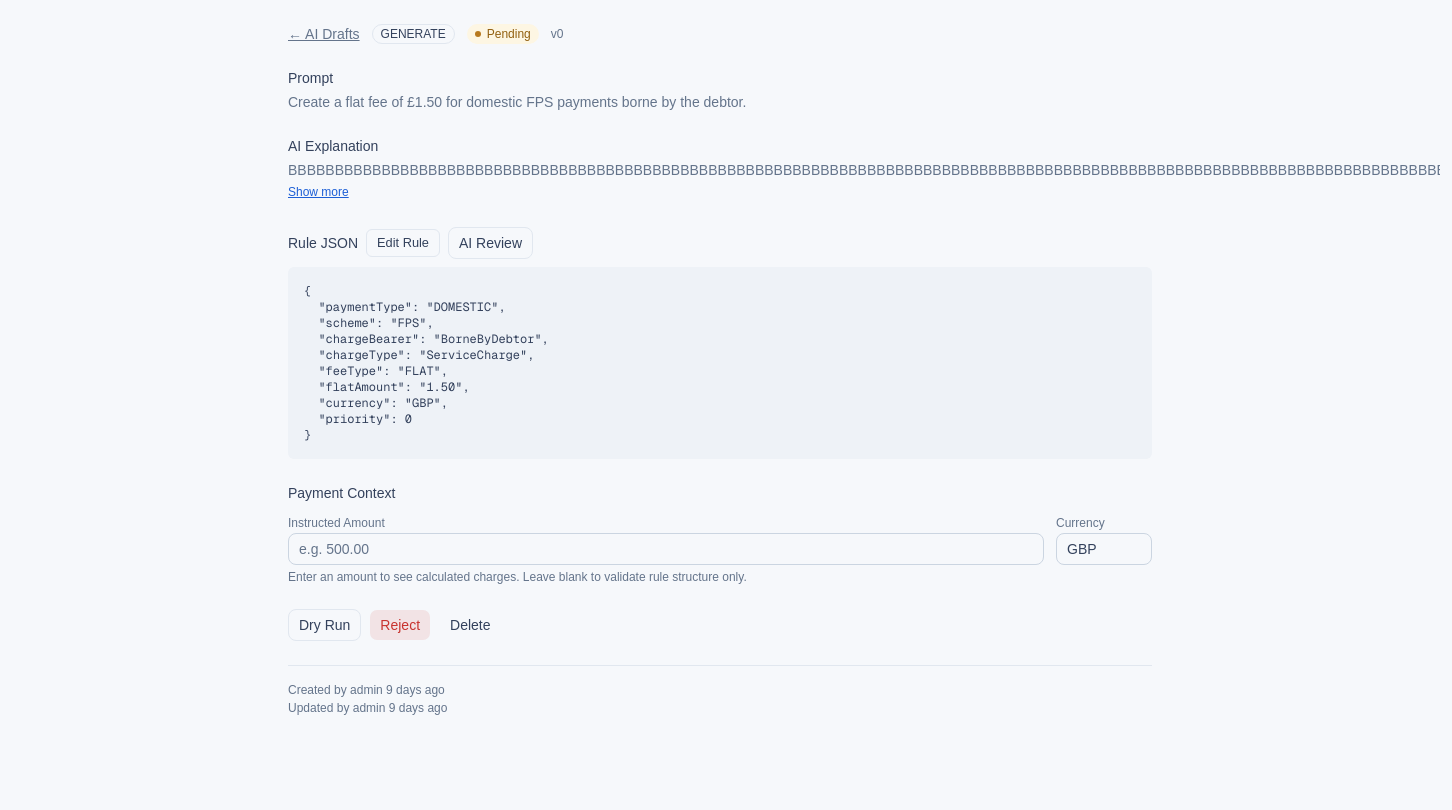
Scenario: DraftDetailPage — layout › expands full explanation when "Show more" is clicked
The width and height of the screenshot is (1452, 810).
Click the button "Show more" at (318, 192), box [288,184,349,200]
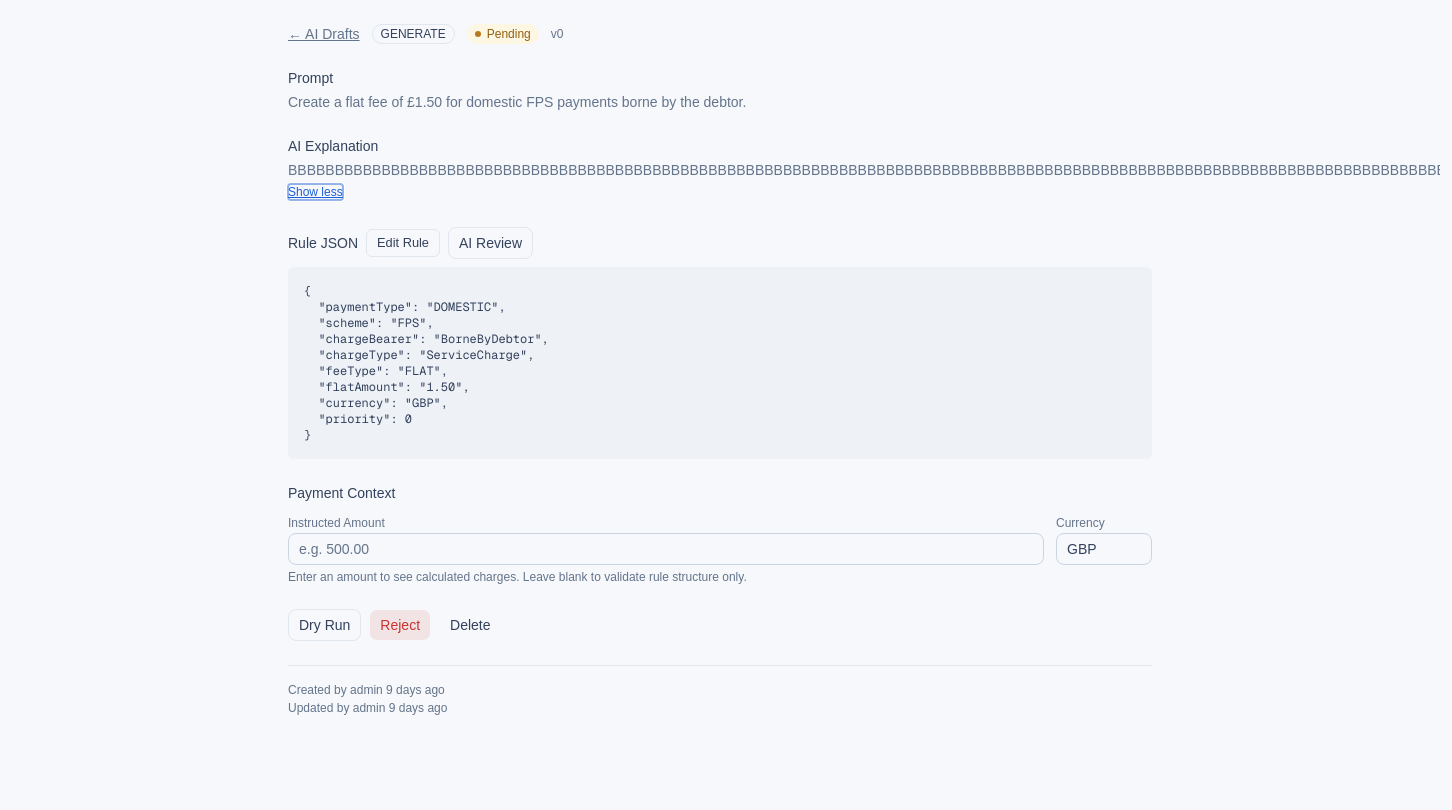
Expected: the button "Show less" is shown, [288,184,343,200]
